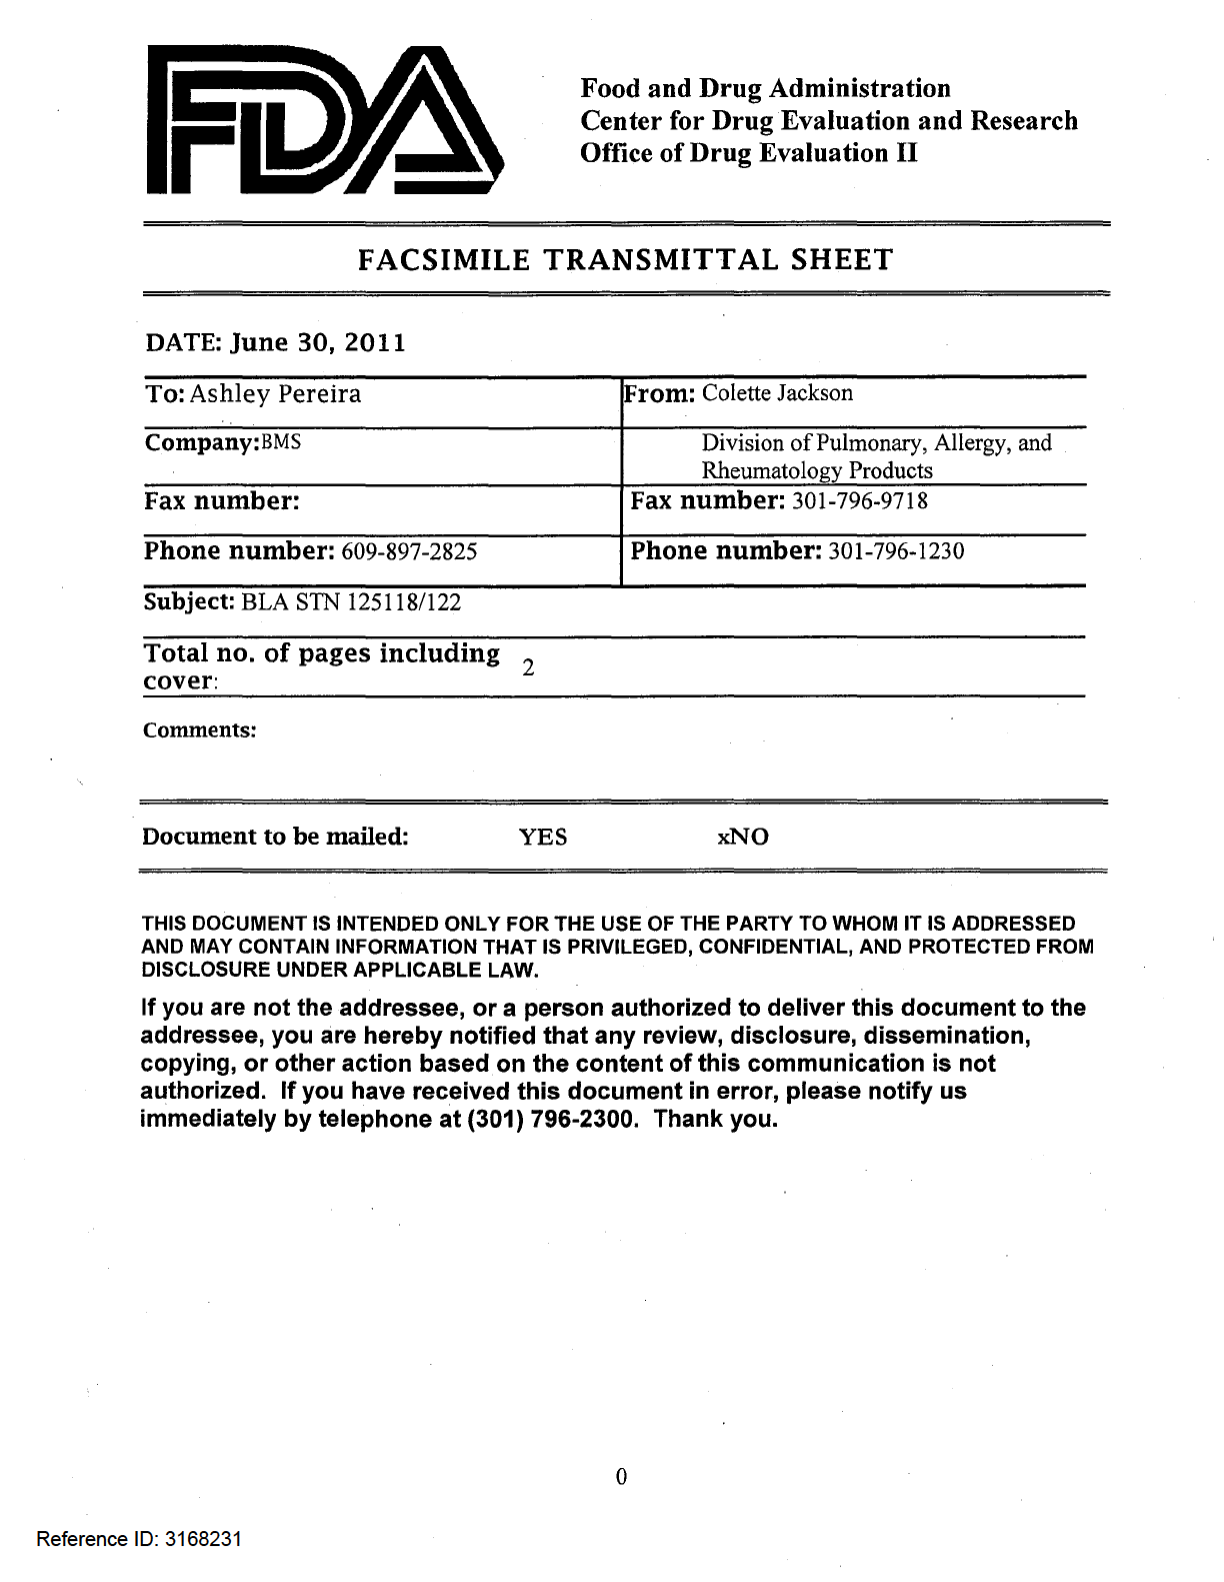partial_lined_merged_cells: (139, 286, 1116, 878)
